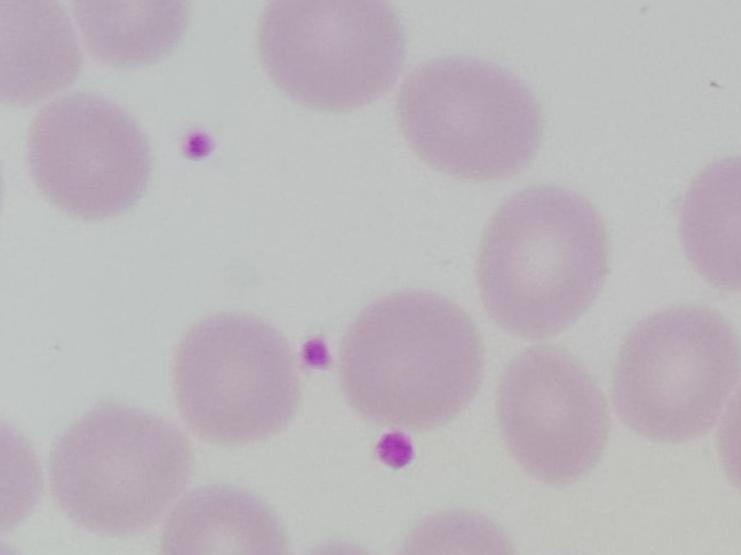Uninfected: (339, 289, 484, 432), (476, 187, 610, 332), (52, 403, 190, 538), (255, 0, 408, 113), (402, 56, 541, 180), (173, 310, 302, 443), (612, 306, 735, 441), (495, 348, 609, 484), (28, 94, 152, 217), (160, 486, 286, 555), (0, 0, 79, 100), (70, 2, 188, 68)
